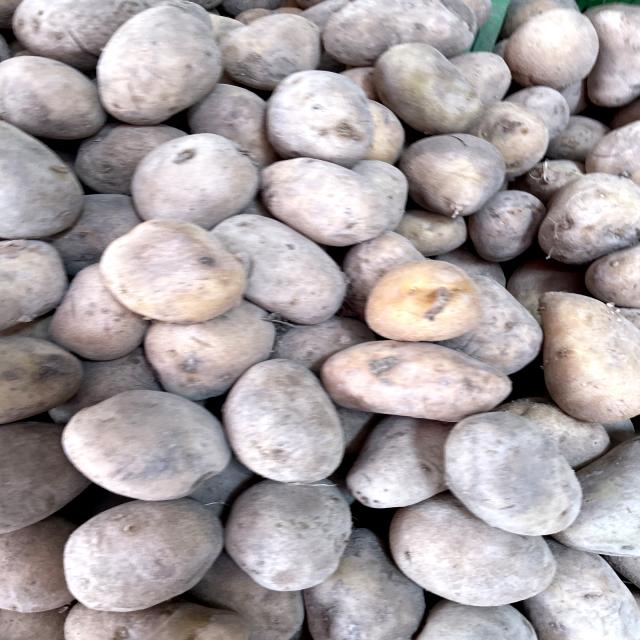potato: (38, 488, 226, 621), (200, 339, 368, 479), (52, 380, 232, 503), (446, 402, 594, 543), (313, 327, 520, 421), (88, 0, 239, 124), (96, 210, 251, 328), (368, 34, 499, 138)
